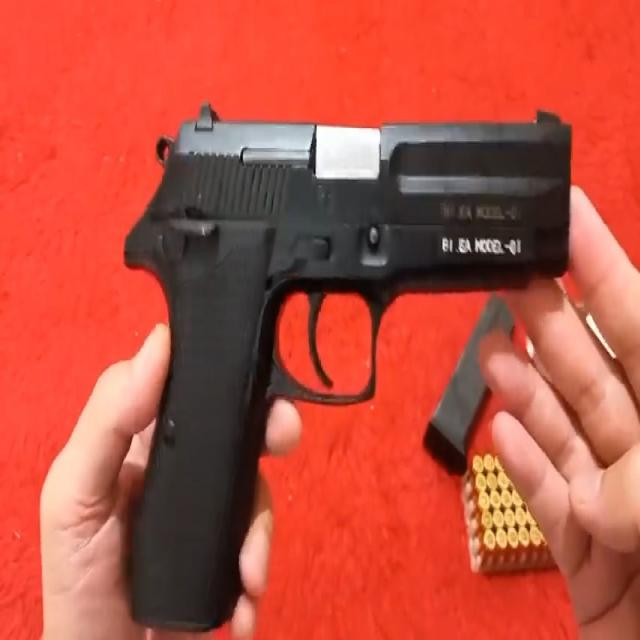handgun: (110, 90, 588, 619)
